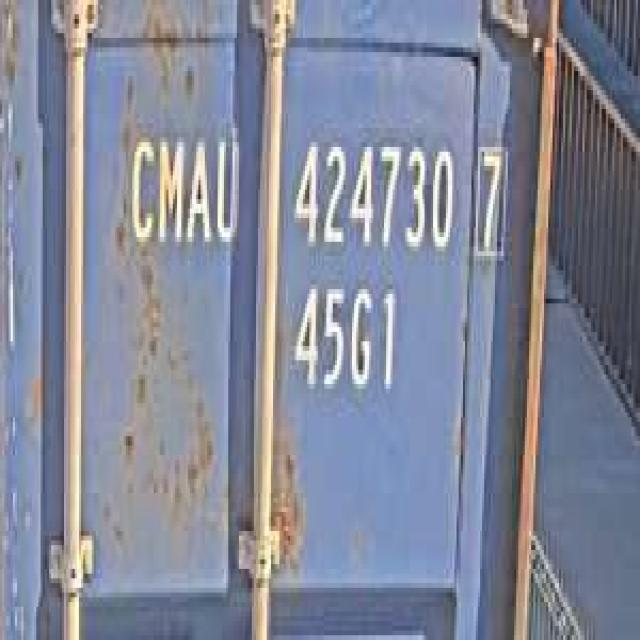dv: (471, 133, 512, 265)
owner: (107, 114, 243, 261)
serial: (288, 118, 457, 266)
size: (288, 270, 403, 408)
